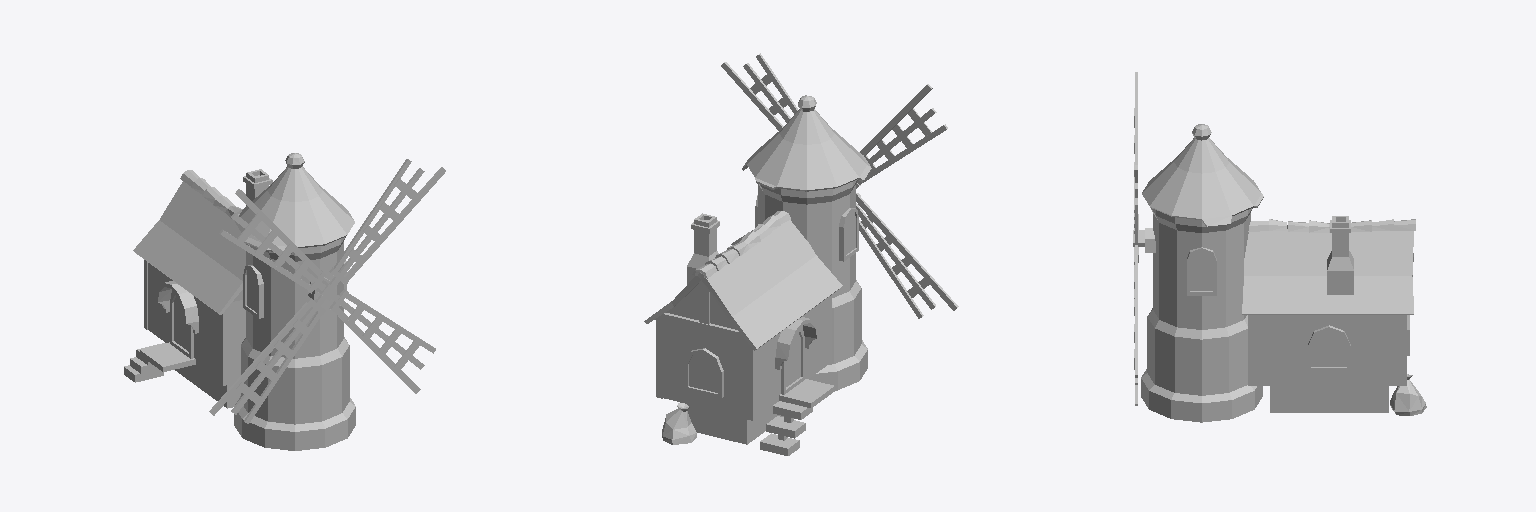
3 renders of one model, left to right at view 1: azimuth 30°, elevation 25°; view 2: azimuth 150°, elevation 25°; view 3: azimuth 270°, elevation 25°, orthographic.
Parts seen in each view (by area): view 1: Mill w_Mill w_0; view 2: Mill w_Mill w_0; view 3: Mill w_Mill w_0.
Boxes of the visible parts, x1=… form: Mill w_Mill w_0: x1=124, y1=153, x2=445, y2=450; Mill w_Mill w_0: x1=644, y1=53, x2=958, y2=455; Mill w_Mill w_0: x1=1133, y1=72, x2=1426, y2=422.
Bounding box in the file's own units: 10.02 × 11.41 × 10.77.